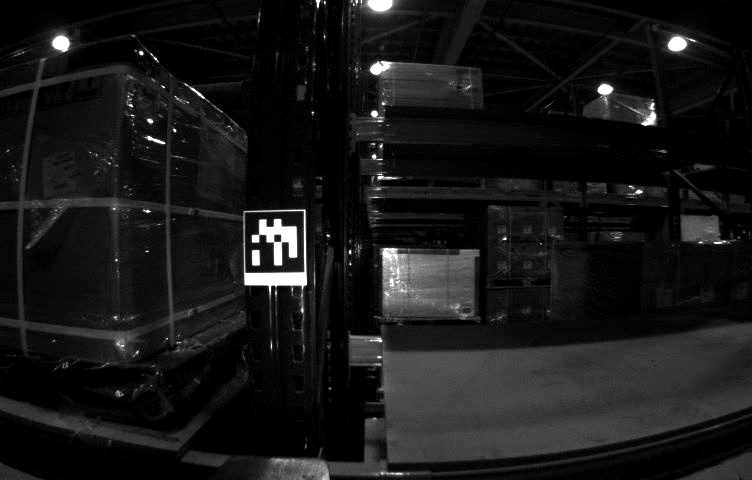True Barcode: (44, 150, 76, 199)
